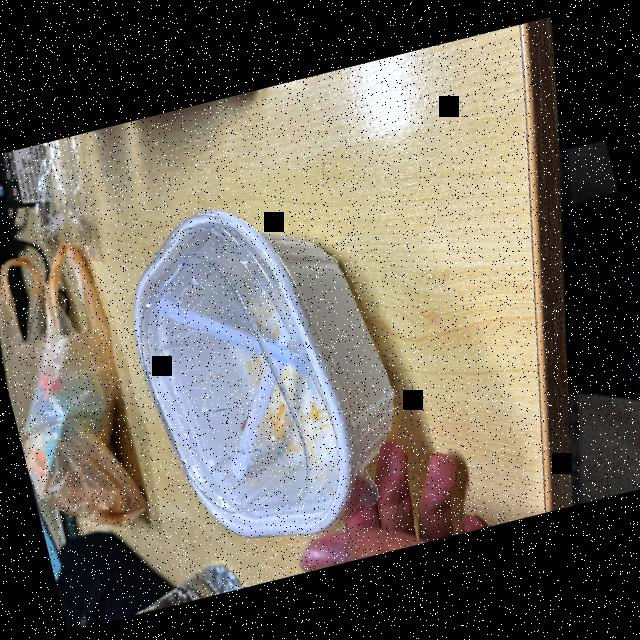plastic_box: (98, 178, 437, 570)
